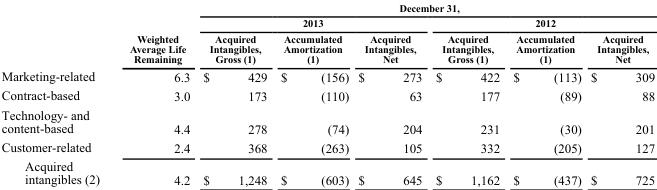table: (0, 1, 654, 187)
table column: (0, 1, 114, 187), (114, 1, 195, 187), (505, 1, 585, 187), (273, 1, 352, 187), (195, 1, 273, 187), (428, 1, 505, 187), (352, 1, 428, 187), (585, 1, 654, 187)
table column header: (0, 1, 654, 66)
table row: (0, 30, 654, 66), (0, 105, 654, 137), (0, 156, 654, 187), (0, 85, 654, 105), (0, 66, 654, 85), (0, 137, 654, 156), (0, 14, 654, 30), (0, 1, 654, 14)
table spanning cell: (195, 1, 654, 14), (114, 1, 195, 66), (195, 14, 428, 30), (428, 14, 654, 30)
